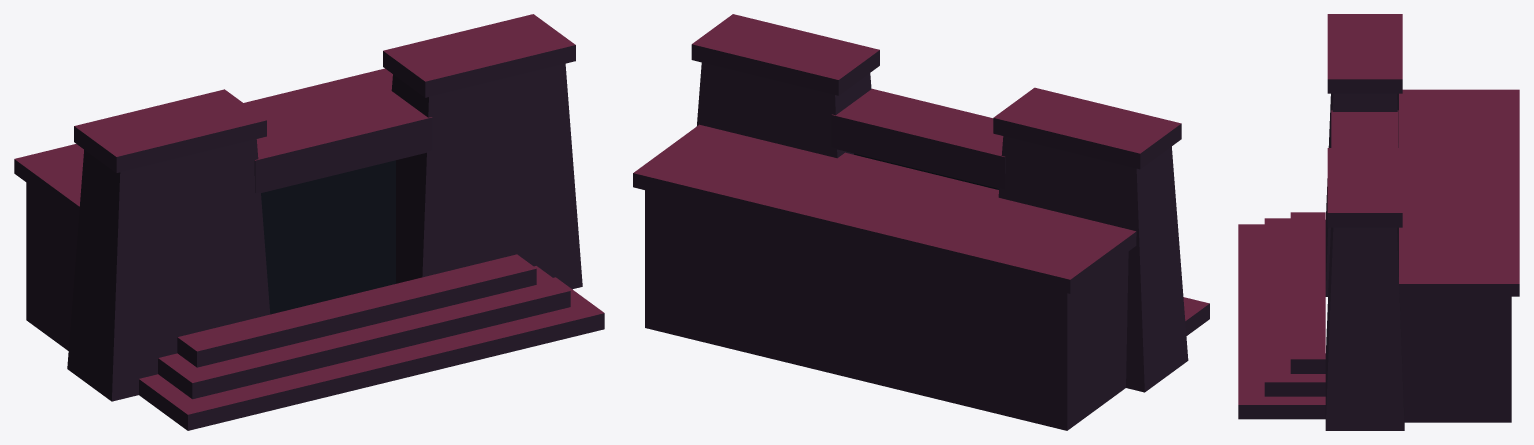
File: temple.glb
3 renders of one model, left to right at view 1: azimuth 30°, elevation 25°; view 2: azimuth 150°, elevation 25°; view 3: azimuth 270°, elevation 25°, orthographic. The views are drawn at different scales.
Parts seen in each view (by area): view 1: Temple, Door; view 2: Temple; view 3: Temple.
Part boxes in pixels (x1,y1,x2,y2): Temple: [14, 14, 604, 430]; Door: [261, 160, 395, 314]; Temple: [633, 14, 1209, 430]; Temple: [1238, 14, 1519, 430].
Bounding box in the file's own units: 6.1 × 3 × 3.55.
